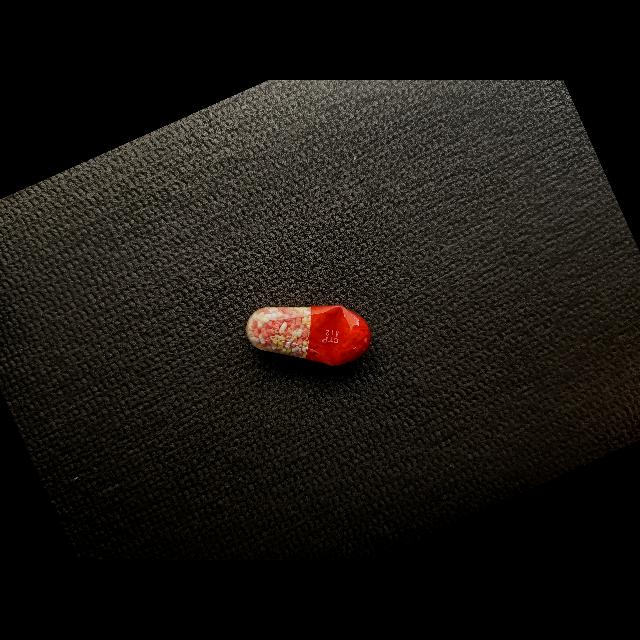Defective Capsule: (246, 305, 371, 366)
